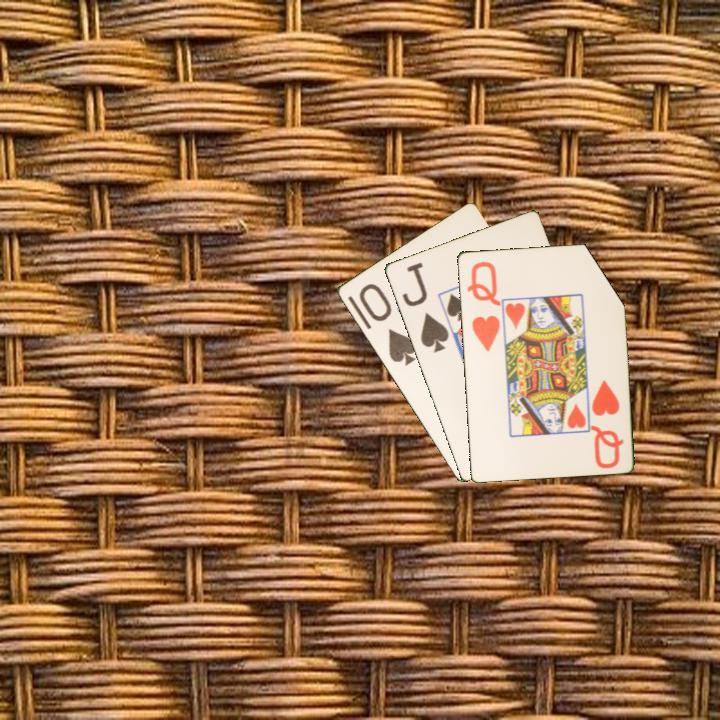10s: (355, 280, 419, 369)
Js: (398, 258, 451, 355)
Qh: (463, 258, 503, 354), (588, 376, 626, 471)
